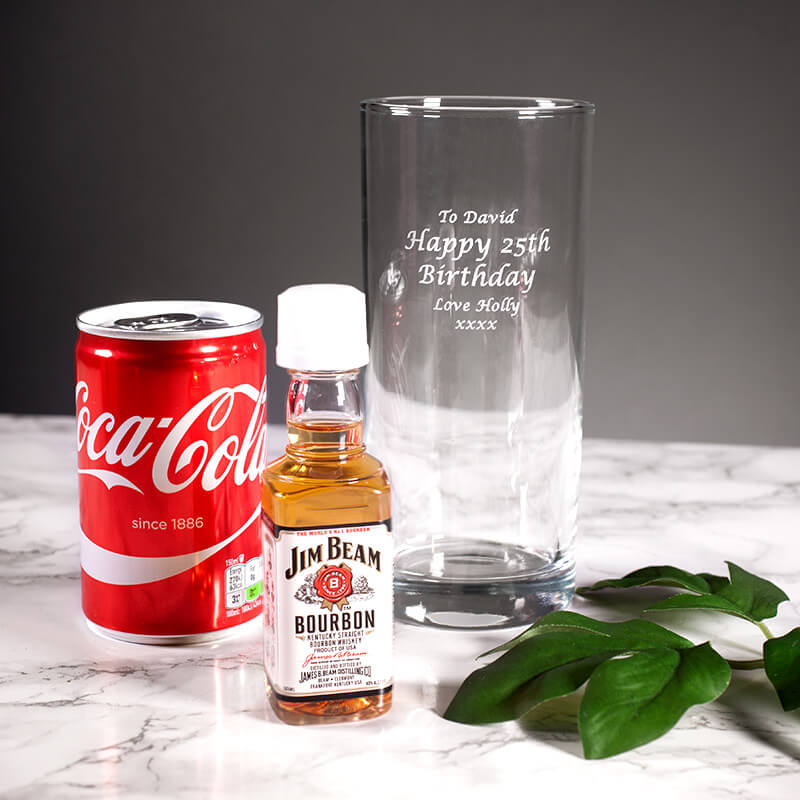coke: (76, 309, 269, 650)
